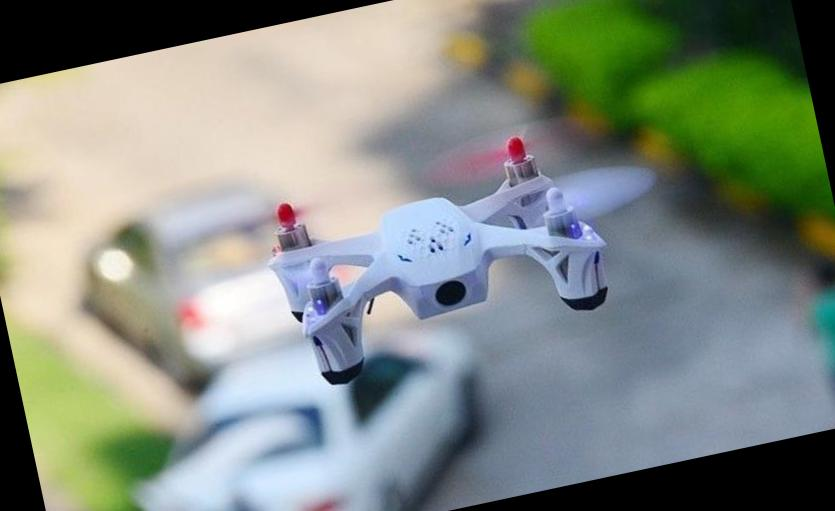drone: (244, 110, 666, 389)
